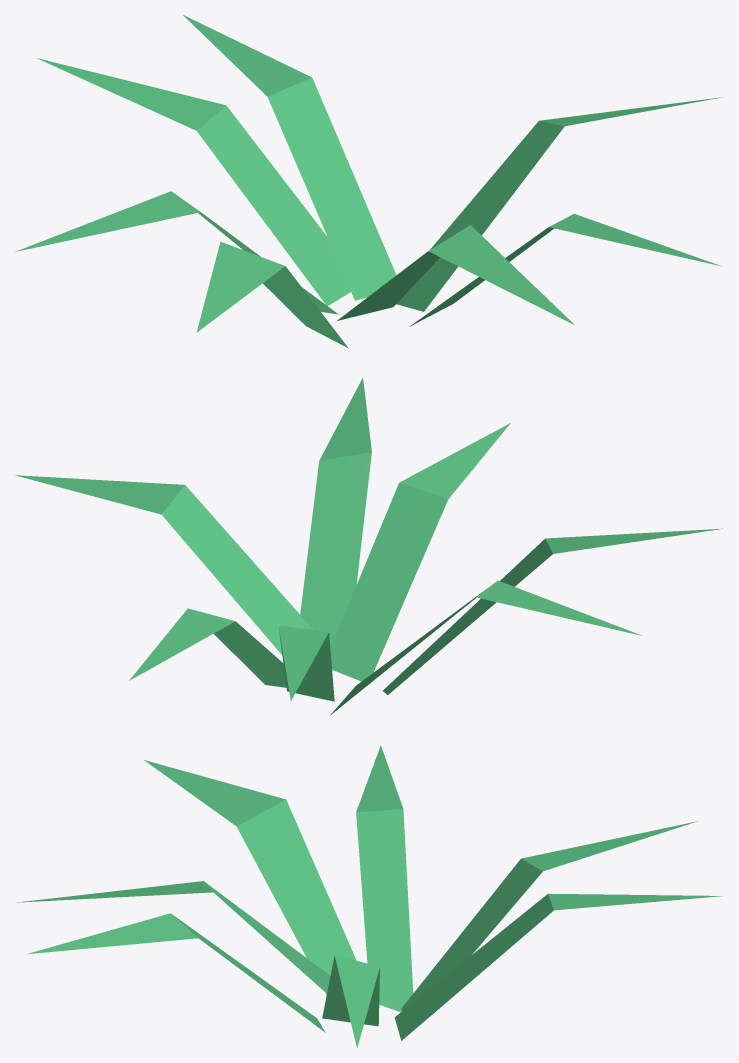
The model's file is Smallgrasssgroup.obj.
The picture shows the model from 3 angles, top to bottom: view 1: azimuth 30°, elevation 25°; view 2: azimuth 150°, elevation 25°; view 3: azimuth 270°, elevation 25°; orthographic projection. The views are drawn at different scales.
Visible parts, largest first — view 1: Plane.006_Plane.007; view 2: Plane.006_Plane.007; view 3: Plane.006_Plane.007.
Part boxes in pixels (x1,y1,x2,y2): Plane.006_Plane.007: (15,15,723,348); Plane.006_Plane.007: (14,378,722,715); Plane.006_Plane.007: (16,745,722,1048).
Size of the model in its own units: 3.27 by 0.7632 by 3.28.
